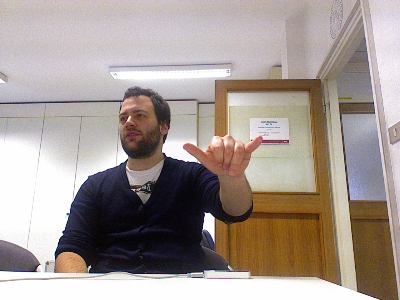六六六: (181, 131, 266, 178)
